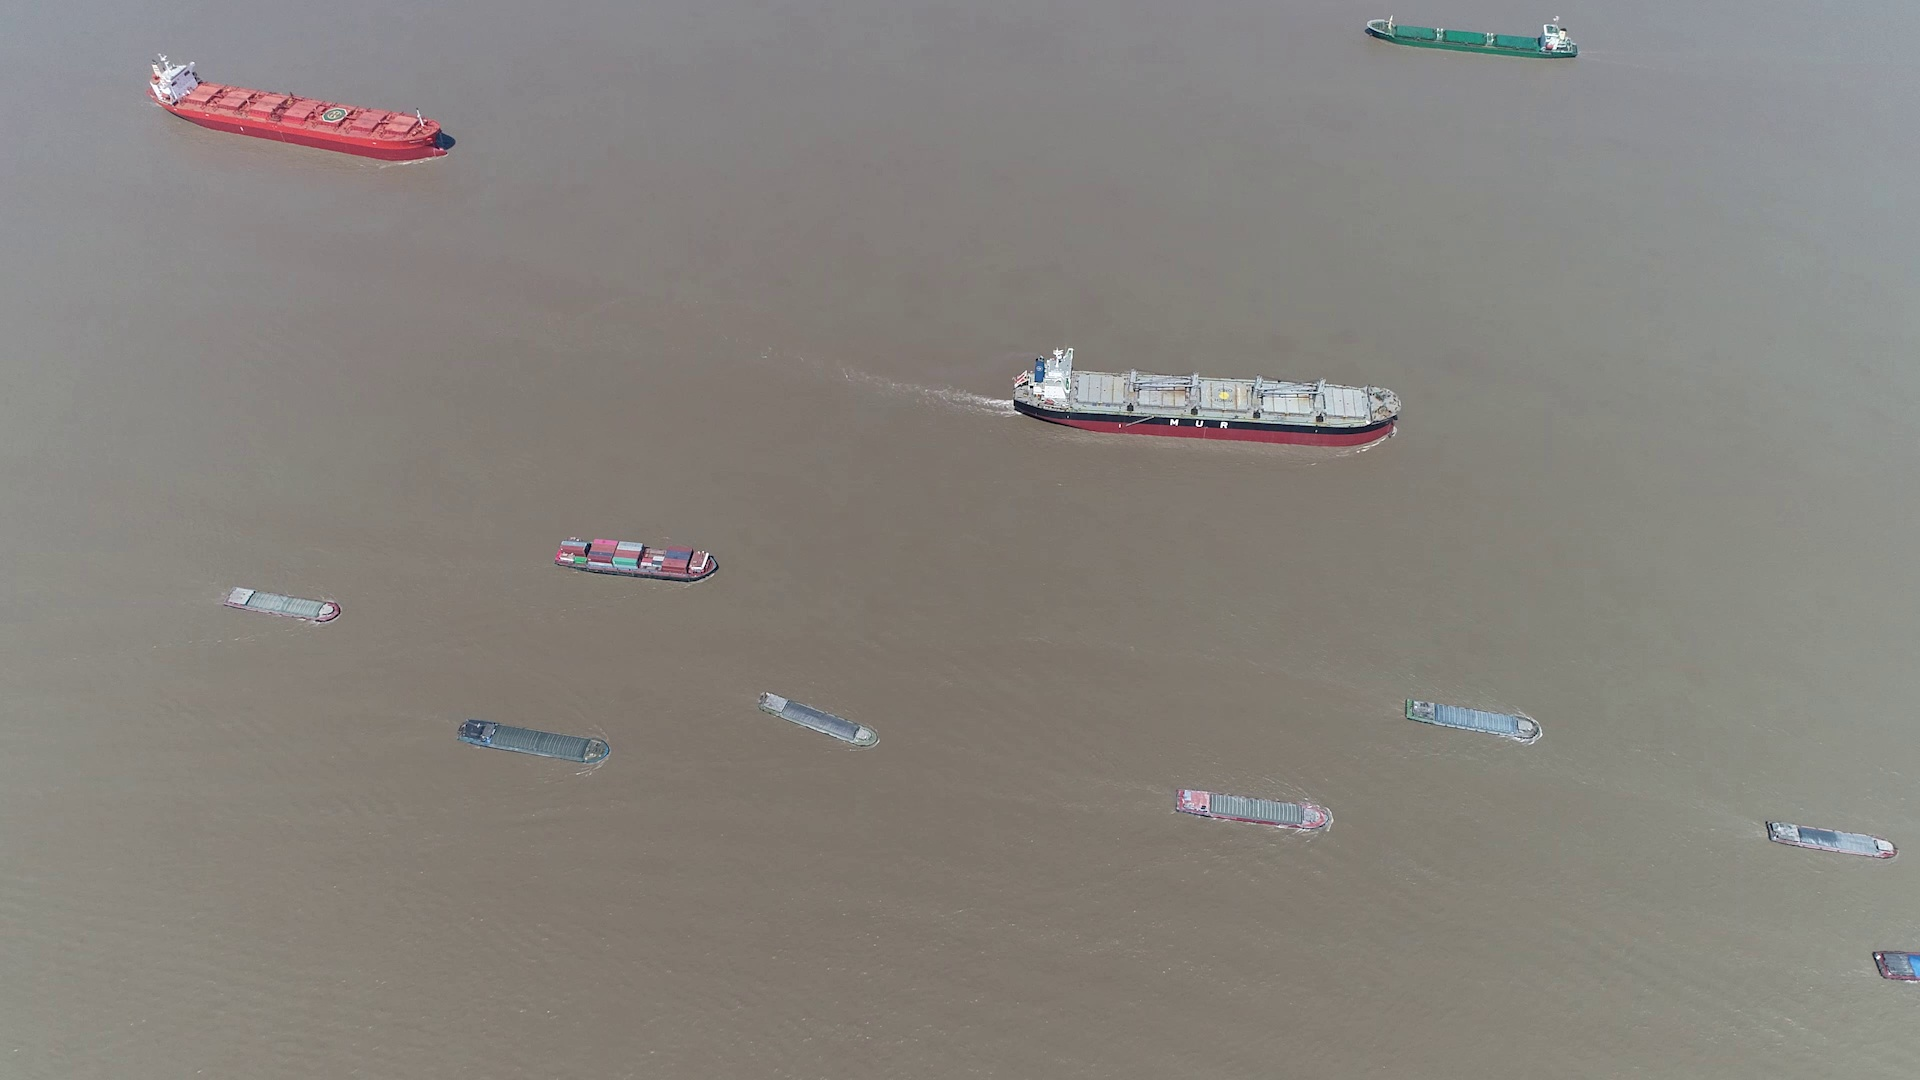ship: (1009, 351, 1400, 447), (150, 51, 448, 158), (1360, 16, 1578, 59), (1174, 790, 1333, 833), (556, 538, 716, 582), (460, 717, 611, 764), (764, 694, 880, 749), (1404, 698, 1543, 742), (1764, 822, 1898, 861), (225, 585, 339, 622), (1873, 949, 1920, 982)
